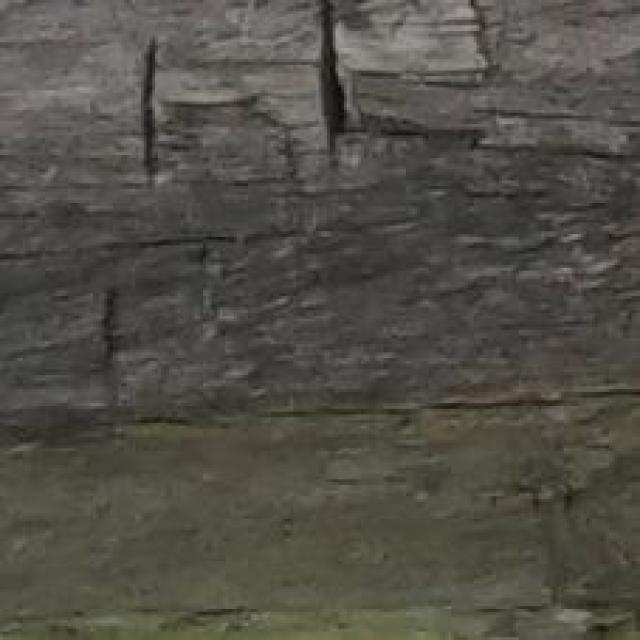Crack: (0, 0, 403, 386)
